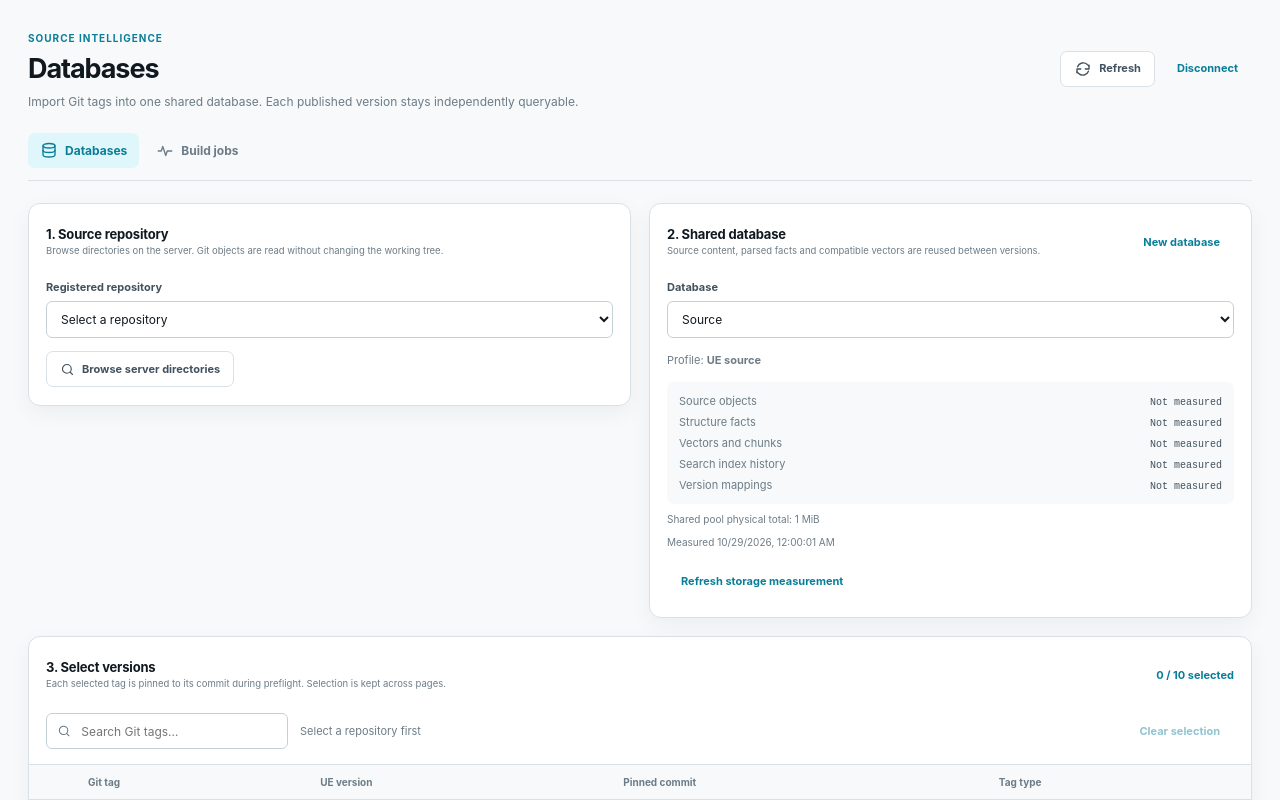
Test case: database administration › shows the measurement timestamp and explicitly refreshes storage before returning to cached reads
Expected: the text "Shared pool physical total: 1 MiB" is shown, [667,513,820,525]
Expected: the text "Measured 10/29/2026, 12:00:01 AM" is shown, [667,536,835,548]
Click the button "Refresh storage measurement" at x=762, y=581, box [667,563,857,599]
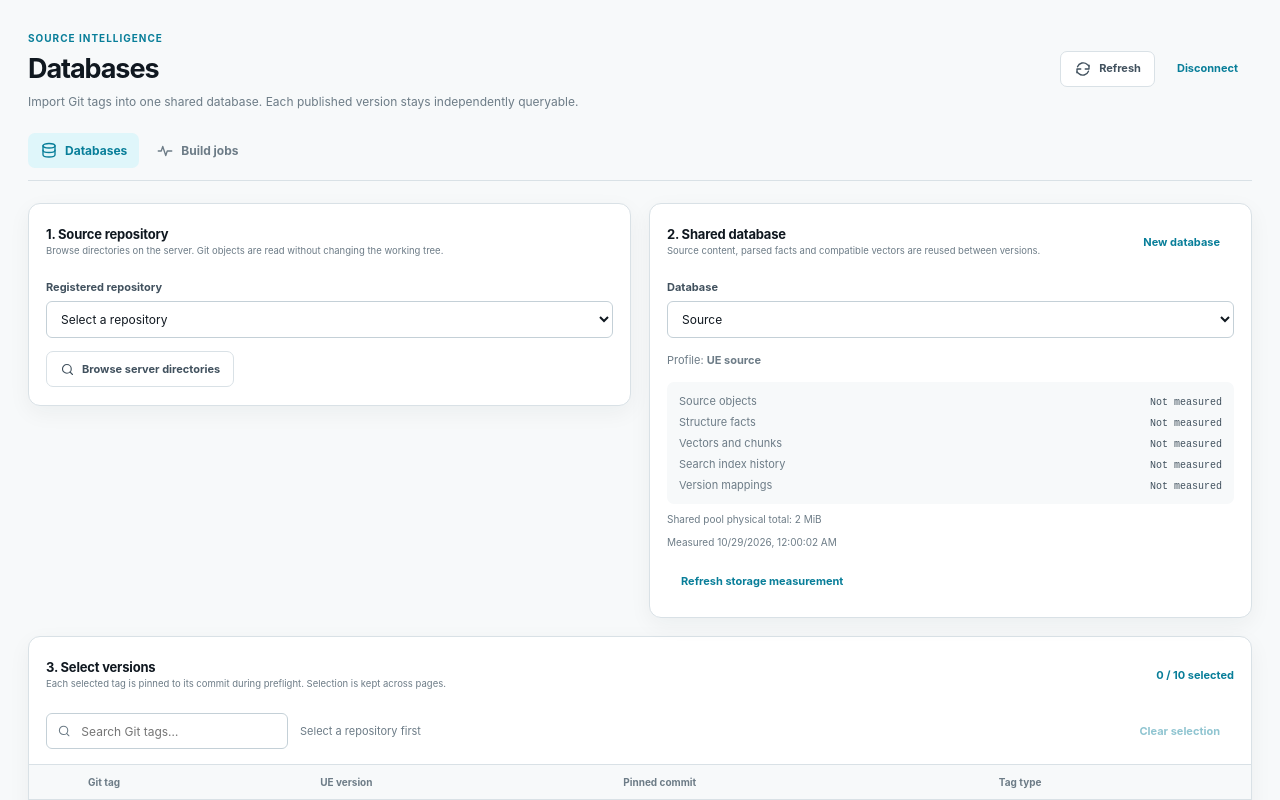
Now the text "Shared pool physical total: 2 MiB" is shown, box [667,513,822,525]
